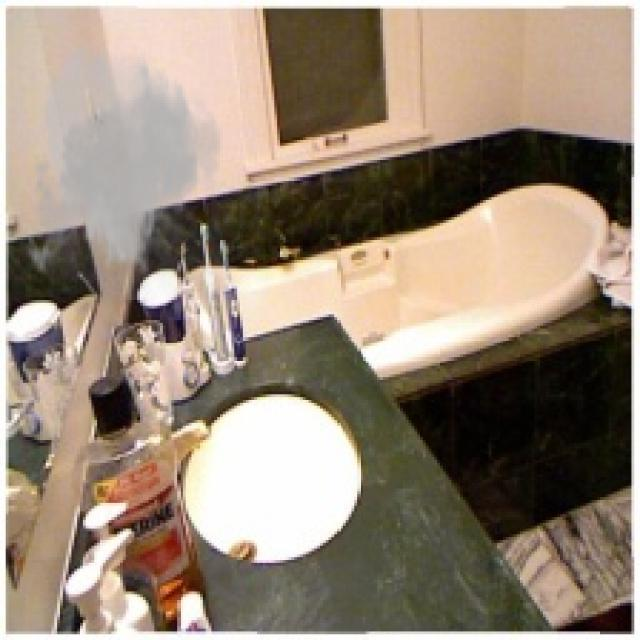Smoke: (20, 37, 229, 300)
